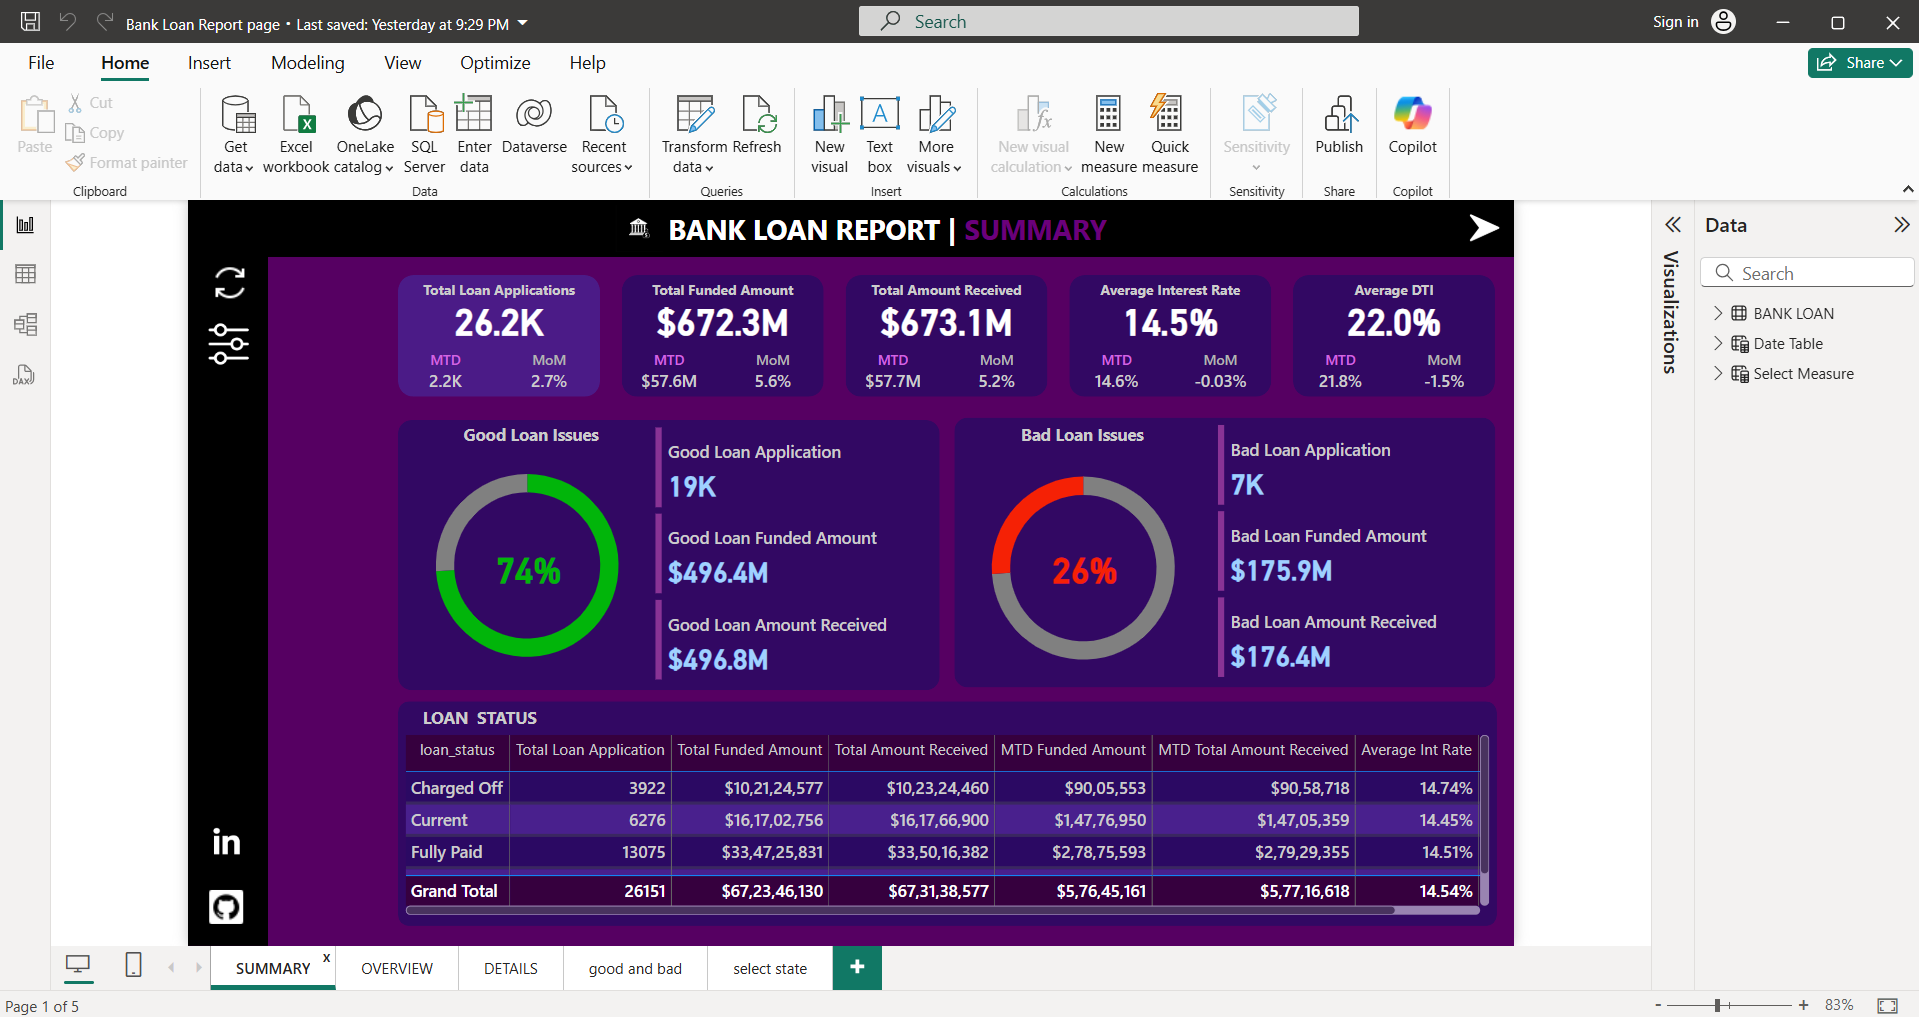

The dashboard page shown, as its layout file describes it:
{"tool":"powerbi","page":{"name":"SUMMARY","canvas":[1280,720],"ordinal":0},"visuals":[{"type":"shape","box":[0,51.9,77.2,668.4],"z":0},{"type":"shape","box":[202.5,72.5,195,117.5],"z":0,"group":"g1"},{"type":"shape","box":[418.4,72.5,195,117.5],"z":0,"group":"g2"},{"type":"shape","box":[634.4,72.5,195,117.5],"z":0,"group":"g3"},{"type":"shape","box":[850.3,72.5,195,117.5],"z":0,"group":"g4"},{"type":"shape","box":[1066.2,72.5,195,117.5],"z":0,"group":"g5"},{"type":"shape","box":[0,0,1280,55],"z":1000},{"type":"card","fields":{"Values":["BANK LOAN.Total_Loan_Application"]},"box":[202.5,86.3,195,58.8],"z":1000,"group":"g1"},{"type":"card","fields":{"Values":["BANK LOAN.Total_Funded_Amount"]},"box":[418.4,86.3,195,58.8],"z":1000,"group":"g2"},{"type":"card","fields":{"Values":["BANK LOAN.Total_Amount_Received"]},"box":[634.4,86.3,195,58.8],"z":1000,"group":"g3"},{"type":"card","fields":{"Values":["BANK LOAN.Average_Int_Rate"]},"box":[850.3,86.3,195,58.8],"z":1000,"group":"g4"},{"type":"card","fields":{"Values":["BANK LOAN.Average DTI"]},"box":[1066.2,86.3,195,58.8],"z":1000,"group":"g5"},{"type":"textbox","box":[202.5,72.5,195,28.8],"z":2000,"group":"g1"},{"type":"textbox","box":[418.4,72.5,195,28.8],"z":2000,"group":"g2"},{"type":"textbox","box":[634.4,72.5,195,28.8],"z":2000,"group":"g3"},{"type":"textbox","box":[850.3,72.5,195,28.8],"z":2000,"group":"g4"},{"type":"textbox","box":[1066.2,72.5,195,28.8],"z":2000,"group":"g5"},{"type":"shape","box":[202.1,212.1,522.8,260.8],"z":2000},{"type":"card","title":"MTD","fields":{"Values":["BANK LOAN.MTD Loan Application"]},"box":[215,145,67.5,45],"z":3000,"group":"g1"},{"type":"card","title":"MTD","fields":{"Values":["BANK LOAN.MTD Funded Amount"]},"box":[430.9,145,67.5,45],"z":3000,"group":"g2"},{"type":"card","title":"MTD","fields":{"Values":["BANK LOAN.MTD Total Amount Received"]},"box":[646.9,145,67.5,45],"z":3000,"group":"g3"},{"type":"card","title":"MTD","fields":{"Values":["BANK LOAN.MTD Avg Int Rate"]},"box":[862.8,145,67.5,45],"z":3000,"group":"g4"},{"type":"card","title":"MTD","fields":{"Values":["BANK LOAN.MTD Avg DTI"]},"box":[1078.7,145,67.5,45],"z":3000,"group":"g5"},{"type":"card","fields":{"Values":["BANK LOAN.Good Loan %"]},"box":[261.8,325.7,133.9,59.1],"z":3000},{"type":"card","title":"MoM","fields":{"Values":["BANK LOAN.MoM Loan Appilaction"]},"box":[315,145,67.5,45],"z":4000,"group":"g1"},{"type":"card","title":"MoM","fields":{"Values":["BANK LOAN.MoM Total Funded Amount"]},"box":[530.9,145,67.5,45],"z":4000,"group":"g2"},{"type":"card","title":"MoM","fields":{"Values":["BANK LOAN.MoM Total Amoun Received"]},"box":[746.9,145,67.5,45],"z":4000,"group":"g3"},{"type":"card","title":"MoM","fields":{"Values":["BANK LOAN.MoM Avg Int Rate"]},"box":[962.8,145,67.5,45],"z":4000,"group":"g4"},{"type":"card","title":"MoM","fields":{"Values":["BANK LOAN.MoM Avg DTI"]},"box":[1178.7,145,67.5,45],"z":4000,"group":"g5"},{"type":"textbox","box":[223.2,209.9,216,37.4],"z":4000},{"type":"textbox","box":[437.9,4.8,474.1,47.1],"z":5000},{"type":"group","id":"g1","title":"Group 1","box":[202.5,72.5,195,117.5],"z":6000},{"type":"group","id":"g2","title":"Group 1","box":[418.4,72.5,195,117.5],"z":7000},{"type":"group","id":"g3","title":"Group 1","box":[634.4,72.5,195,117.5],"z":8000},{"type":"donutChart","fields":{"Category":["BANK LOAN.Good VS Bad Loan"],"Y":["BANK LOAN.Total Loan Application"]},"box":[202.7,237.7,249.7,230.4],"z":9000},{"type":"group","id":"g4","title":"Group 1","box":[850.3,72.5,195,117.5],"z":10000},{"type":"group","id":"g5","title":"Group 1","box":[1066.2,72.5,195,117.5],"z":11000},{"type":"shape","box":[739.5,209.9,522.4,260.6],"z":12000},{"type":"cardVisual","fields":{"Data":["BANK LOAN.Good Loan Application","BANK LOAN.Good Loan Funded Amount","BANK LOAN.Good Loan Amount Received"]},"box":[446.7,214.6,289.5,255.8],"z":13000},{"type":"donutChart","fields":{"Y":["BANK LOAN.Total Loan Application"],"Category":["BANK LOAN.Good VS Bad Loan"]},"box":[740,239.6,249.6,230.8],"z":14000},{"type":"textbox","box":[754.9,209.6,215.9,37.4],"z":15000},{"type":"card","fields":{"Values":["BANK LOAN.Bad Loan %"]},"box":[798.6,325.7,133.5,58.6],"z":16000},{"type":"shape","box":[202.1,484.2,1060.6,217.1],"z":17000},{"type":"cardVisual","fields":{"Data":["BANK LOAN.Bad Loan Application","BANK LOAN.Bad Loan Funded Amount","BANK LOAN.Bad Loan Amount Received"]},"box":[989.3,212.3,289.5,255.8],"z":18000},{"type":"tableEx","fields":{"Values":["BANK LOAN.loan_status","BANK LOAN.Total Loan Application","BANK LOAN.Total Funded Amount","BANK LOAN.Total Amount Received","BANK LOAN.MTD Funded Amount","BANK LOAN.MTD Total Amount Received","BANK LOAN.Average Int Rate","BANK LOAN.Average DTI"]},"box":[203.9,511.5,1056.8,183.4],"z":19000},{"type":"textbox","box":[214.6,484.2,133.5,37.4],"z":20000},{"type":"image","box":[406.6,0,57.9,54.3],"z":21000},{"type":"image","box":[15.7,51.9,49.5,56.7],"z":22000},{"type":"image","box":[15.7,661.1,42.2,42.2],"z":23000},{"type":"image","box":[13.3,109.8,51.9,57.9],"z":24000},{"type":"image","box":[1231.8,6,39.8,42.2],"z":26000},{"type":"image","box":[8.4,592.4,57.9,53.1],"z":27000}]}

Visuals, with their boxes on the page's 1280x720 design canvas (x1, y1, x2, y2). These are canvas units, not pixel positions in the 1919x1017 screenshot, which may show the page scaled, cropped or inside an application window:
shape: bbox(0, 52, 77, 720)
shape: bbox(202, 72, 398, 190)
shape: bbox(418, 72, 613, 190)
shape: bbox(634, 72, 829, 190)
shape: bbox(850, 72, 1045, 190)
shape: bbox(1066, 72, 1261, 190)
shape: bbox(0, 0, 1280, 55)
card - BANK LOAN.Total_Loan_Application: bbox(202, 86, 398, 145)
card - BANK LOAN.Total_Funded_Amount: bbox(418, 86, 613, 145)
card - BANK LOAN.Total_Amount_Received: bbox(634, 86, 829, 145)
card - BANK LOAN.Average_Int_Rate: bbox(850, 86, 1045, 145)
card - BANK LOAN.Average DTI: bbox(1066, 86, 1261, 145)
textbox: bbox(202, 72, 398, 101)
textbox: bbox(418, 72, 613, 101)
textbox: bbox(634, 72, 829, 101)
textbox: bbox(850, 72, 1045, 101)
textbox: bbox(1066, 72, 1261, 101)
shape: bbox(202, 212, 725, 473)
"MTD" card: bbox(215, 145, 282, 190)
"MTD" card: bbox(431, 145, 498, 190)
"MTD" card: bbox(647, 145, 714, 190)
"MTD" card: bbox(863, 145, 930, 190)
"MTD" card: bbox(1079, 145, 1146, 190)
card - BANK LOAN.Good Loan %: bbox(262, 326, 396, 385)
"MoM" card: bbox(315, 145, 382, 190)
"MoM" card: bbox(531, 145, 598, 190)
"MoM" card: bbox(747, 145, 814, 190)
"MoM" card: bbox(963, 145, 1030, 190)
"MoM" card: bbox(1179, 145, 1246, 190)
textbox: bbox(223, 210, 439, 247)
textbox: bbox(438, 5, 912, 52)
"Group 1" group: bbox(202, 72, 398, 190)
"Group 1" group: bbox(418, 72, 613, 190)
"Group 1" group: bbox(634, 72, 829, 190)
donutChart - BANK LOAN.Good VS Bad Loan x BANK LOAN.Total Loan Application: bbox(203, 238, 452, 468)
"Group 1" group: bbox(850, 72, 1045, 190)
"Group 1" group: bbox(1066, 72, 1261, 190)
shape: bbox(740, 210, 1262, 470)
cardVisual - BANK LOAN.Good Loan Application x BANK LOAN.Good Loan Funded Amount: bbox(447, 215, 736, 470)
donutChart - BANK LOAN.Total Loan Application x BANK LOAN.Good VS Bad Loan: bbox(740, 240, 990, 470)
textbox: bbox(755, 210, 971, 247)
card - BANK LOAN.Bad Loan %: bbox(799, 326, 932, 384)
shape: bbox(202, 484, 1263, 701)
cardVisual - BANK LOAN.Bad Loan Application x BANK LOAN.Bad Loan Funded Amount: bbox(989, 212, 1279, 468)
tableEx - BANK LOAN.loan_status x BANK LOAN.Total Loan Application: bbox(204, 512, 1261, 695)
textbox: bbox(215, 484, 348, 522)
image: bbox(407, 0, 464, 54)
image: bbox(16, 52, 65, 109)
image: bbox(16, 661, 58, 703)
image: bbox(13, 110, 65, 168)
image: bbox(1232, 6, 1272, 48)
image: bbox(8, 592, 66, 646)
